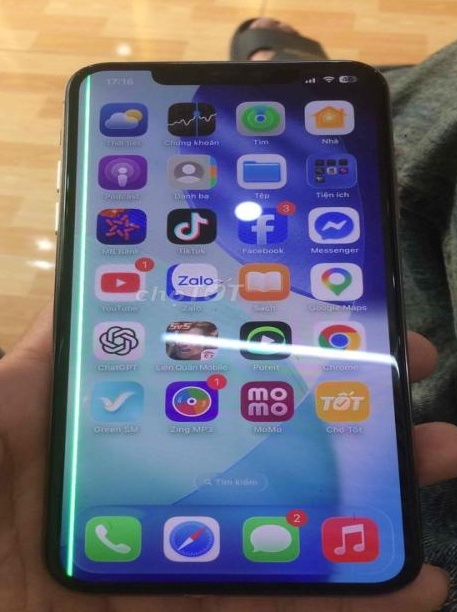screen_defect: (0, 261, 166, 612), (0, 109, 190, 386), (0, 89, 193, 318), (0, 24, 195, 133)
